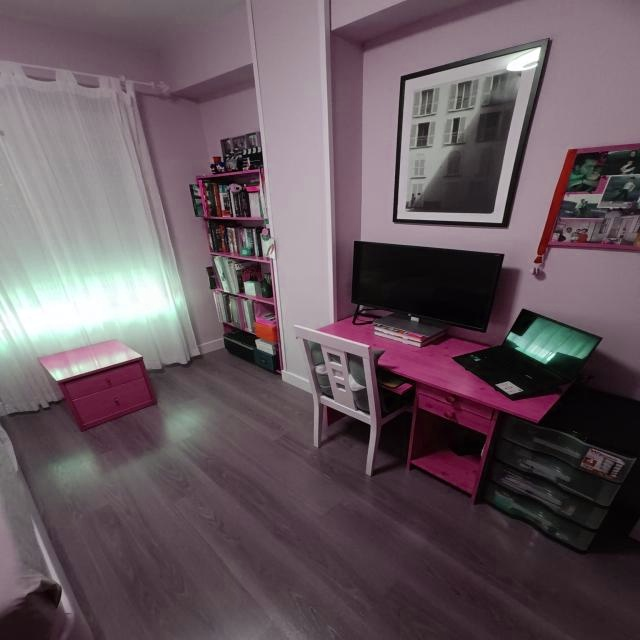bookshelf: (191, 132, 280, 372)
chair: (293, 323, 412, 477)
laptop: (452, 309, 603, 401)
monitor: (352, 242, 504, 326)
nighttable: (40, 341, 155, 430)
stove: (319, 317, 560, 502)
